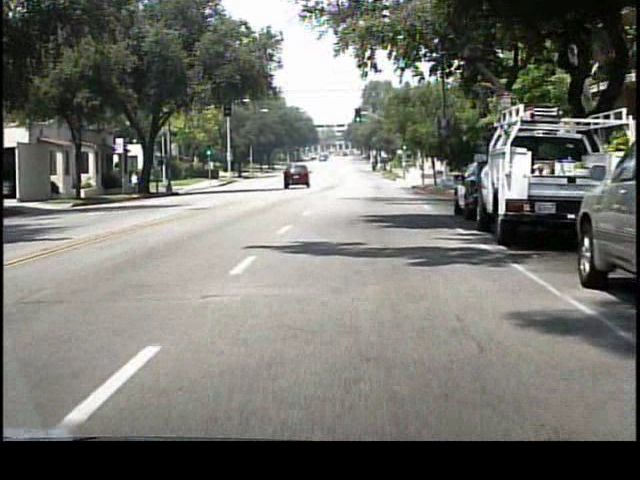person: (132, 170, 140, 196)
